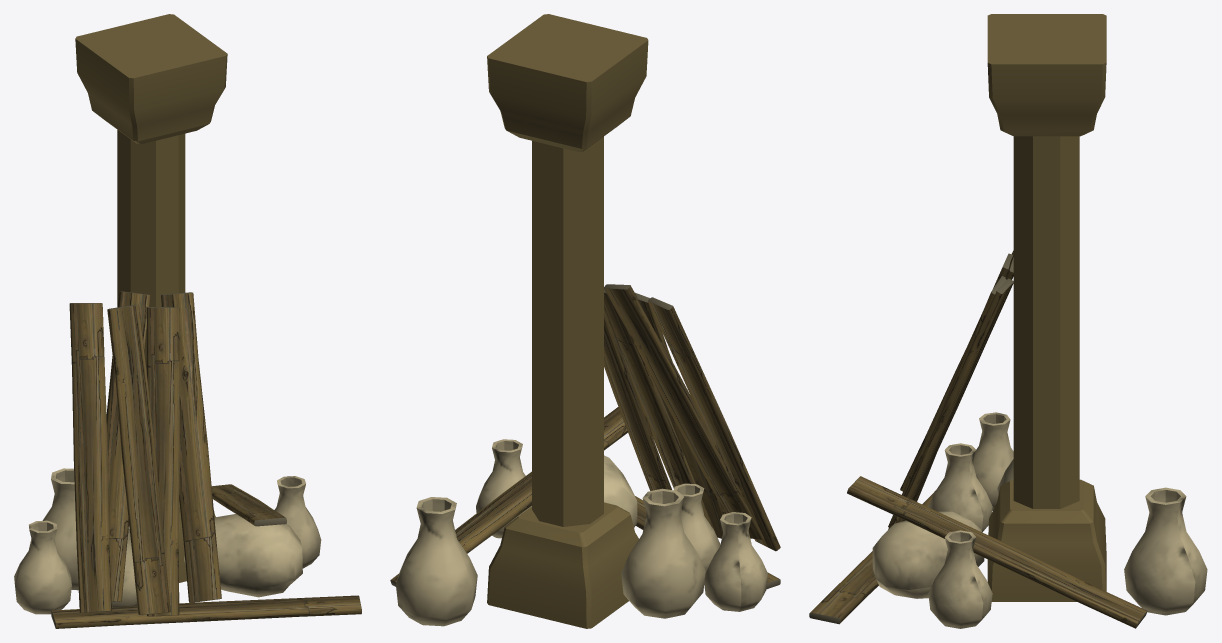
The model's file is clusterColumn 1.fbx.
3 renders of one model, left to right at view 1: azimuth 30°, elevation 25°; view 2: azimuth 150°, elevation 25°; view 3: azimuth 270°, elevation 25°, orthographic. The views are drawn at different scales.
Parts seen in each view (by area): view 1: polySurface392; view 2: polySurface392; view 3: polySurface392.
Boxes of the visible parts, x1,y1,x2,y2 form: polySurface392: (14, 14, 361, 628); polySurface392: (390, 14, 780, 628); polySurface392: (809, 14, 1207, 628).
Bounding box in the file's own units: 232 × 401 × 269.
